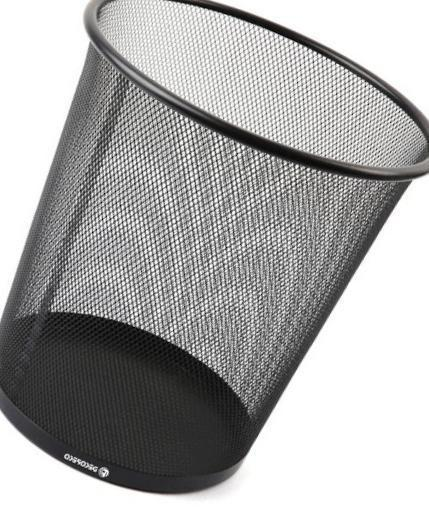Bote de Basura: (1, 0, 428, 494)
